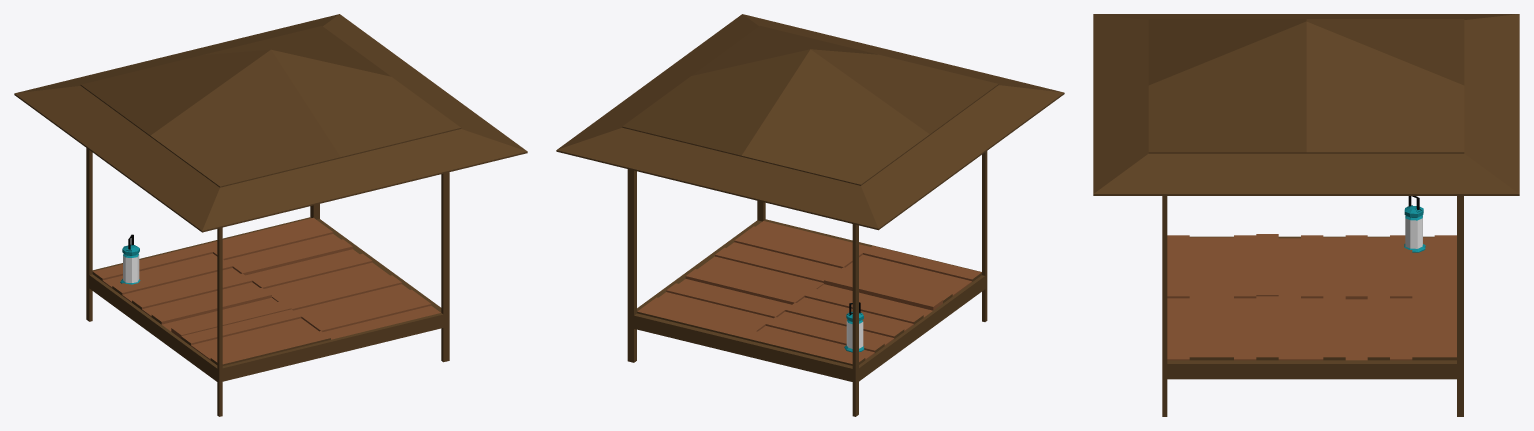
File: Cottage1.fbx
3 renders of one model, left to right at view 1: azimuth 30°, elevation 25°; view 2: azimuth 150°, elevation 25°; view 3: azimuth 270°, elevation 25°, orthographic. The views are drawn at different scales.
Parts seen in each view (by area): view 1: Cube.050; view 2: Cube.050; view 3: Cube.050.
Part boxes in pixels (x1=…): Cube.050: x1=14, y1=14, x2=527, y2=416; Cube.050: x1=556, y1=14, x2=1064, y2=416; Cube.050: x1=1093, y1=14, x2=1519, y2=416.
Size of the model in its own units: 142 by 122 by 142.
